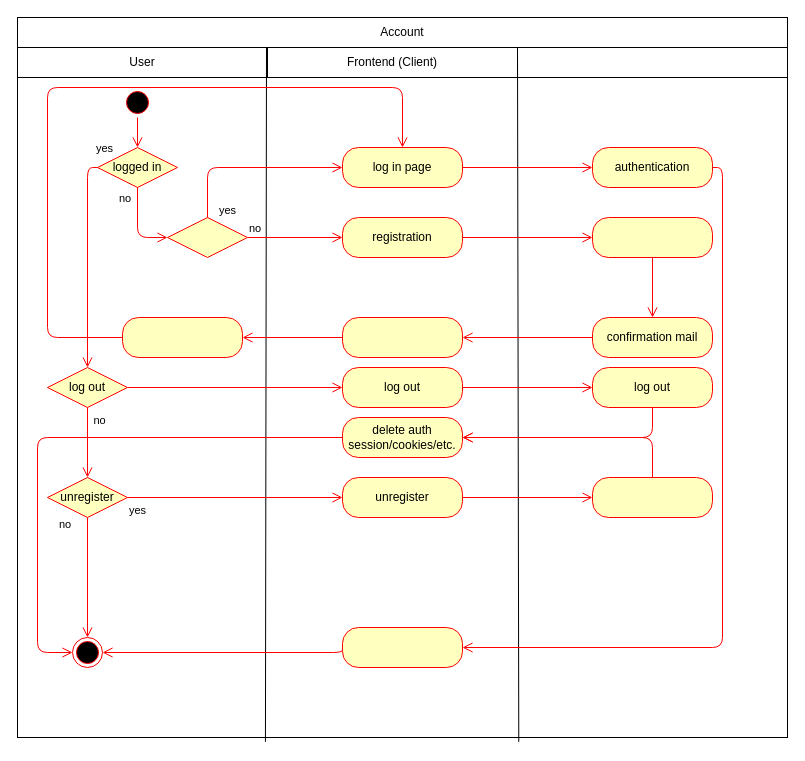
Image size: 805x761. Some labels were removed from this diagram. The centre of each missing label's shape, as x and y in pixels:
Backend (Server): point (652, 62)
confirmation page: point (402, 337)
delete user and its data: point (652, 497)
profile page: point (402, 647)
receive mail and confirm: point (182, 337)
register: point (652, 237)
registered: point (207, 237)
